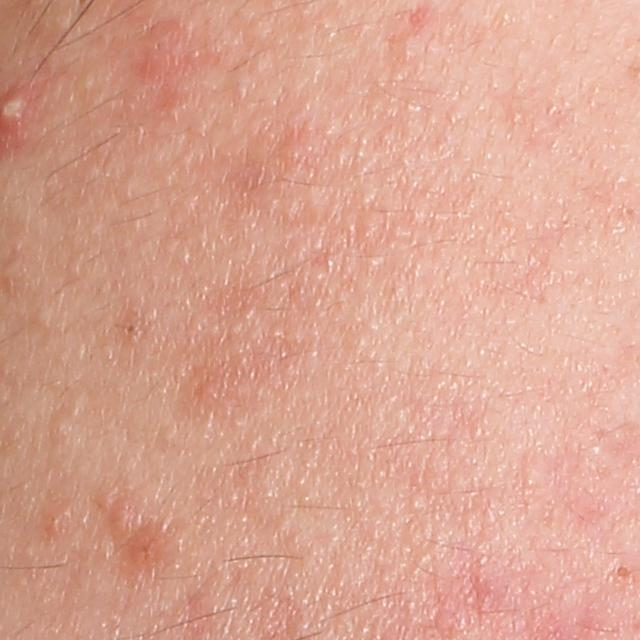comedo: (129, 22, 186, 74), (48, 418, 75, 441), (32, 310, 59, 328), (121, 322, 145, 340), (612, 563, 631, 583)
papule: (40, 506, 70, 535)
